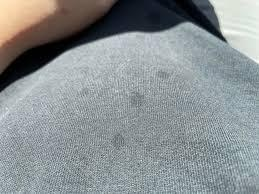oil: (152, 65, 170, 80), (127, 90, 143, 106), (112, 133, 120, 145), (78, 86, 86, 93)
